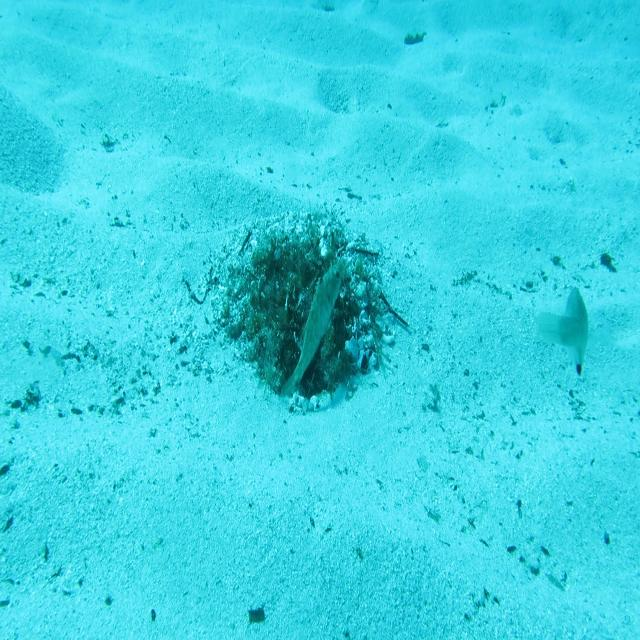FAN: (279, 258, 346, 404)
core_nest: (274, 253, 318, 286)
female: (533, 284, 590, 381)
nest: (206, 196, 404, 427)
vegetation: (401, 29, 428, 49), (600, 254, 618, 277), (248, 605, 266, 625)
